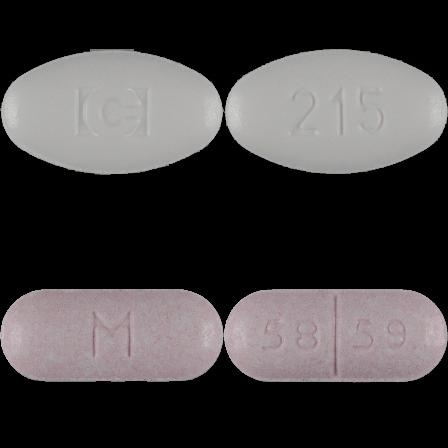16590-345: (0, 0, 224, 224)
